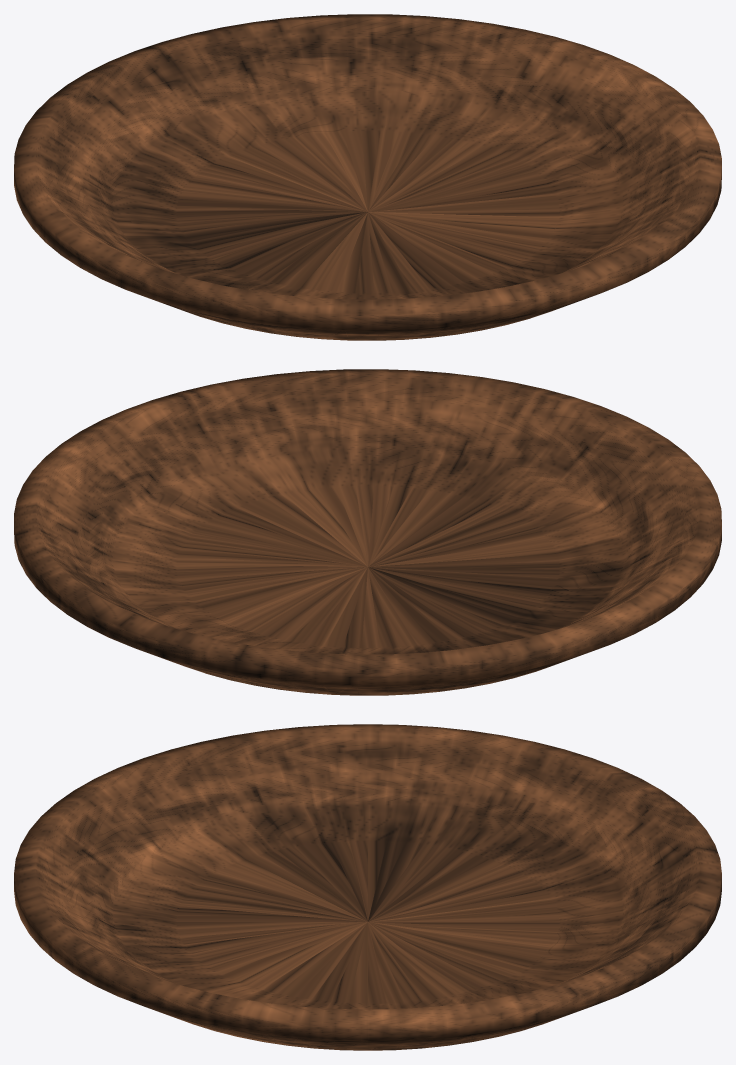
The model's file is plate_wood.glb.
The picture shows the model from 3 angles, top to bottom: view 1: azimuth 30°, elevation 25°; view 2: azimuth 150°, elevation 25°; view 3: azimuth 270°, elevation 25°; orthographic projection.
Visible parts, largest first — view 1: oak; view 2: oak; view 3: oak.
Boxes of the visible parts, x1,y1,x2,y2 form: oak: [14, 14, 721, 340]; oak: [14, 369, 721, 695]; oak: [14, 724, 721, 1050].
Size of the model in its own units: 0.266 by 0.034 by 0.266.
Materials: 1 (1 with a texture image).
